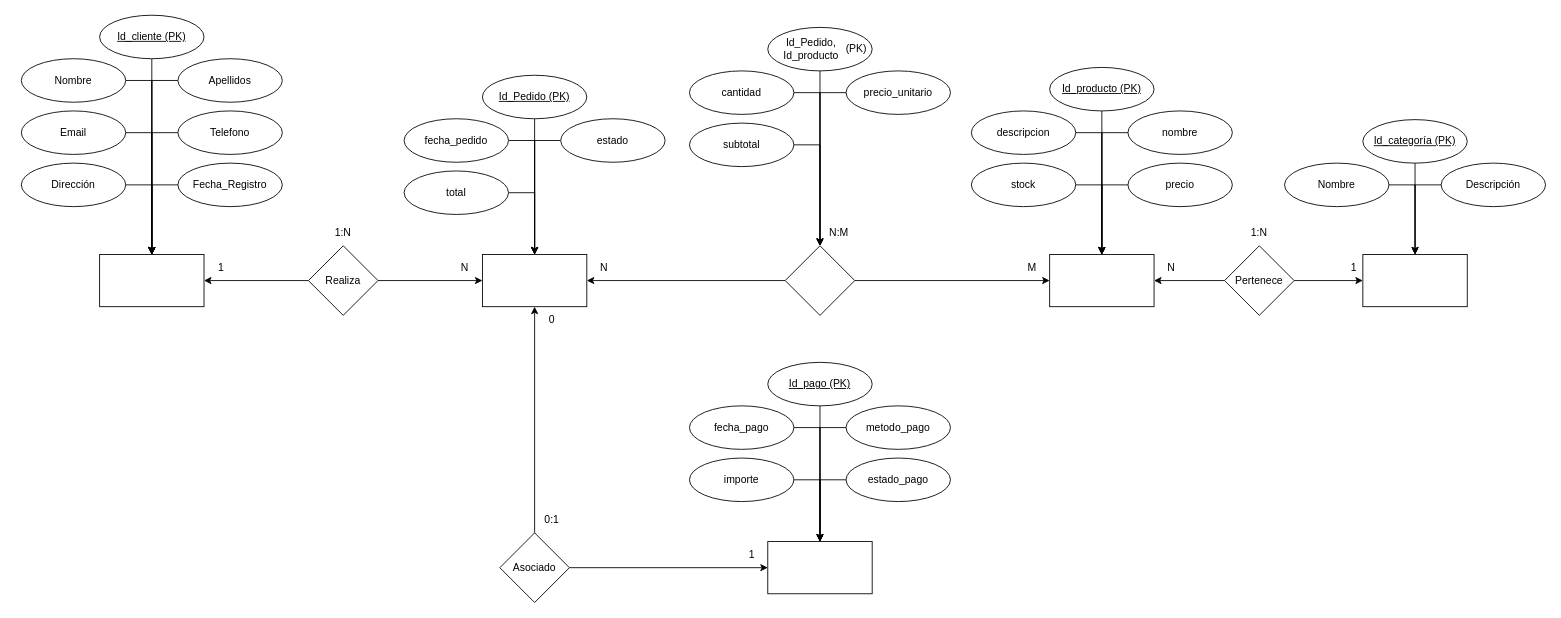
The diagram is 1561 pixels wide and 618 high, and some of its shapes have lost their labels. The shapes that lost their labels are listed below. From the top down, each one's centre as x and y in pixels, then its label:
At (151,280): "Clientes".
At (534,280): "Pedidos".
At (819,280): "Detalle_ Pedido".
At (1101,280): "Productos".
At (1414,280): "Categorías".
At (819,567): "Pagos".
